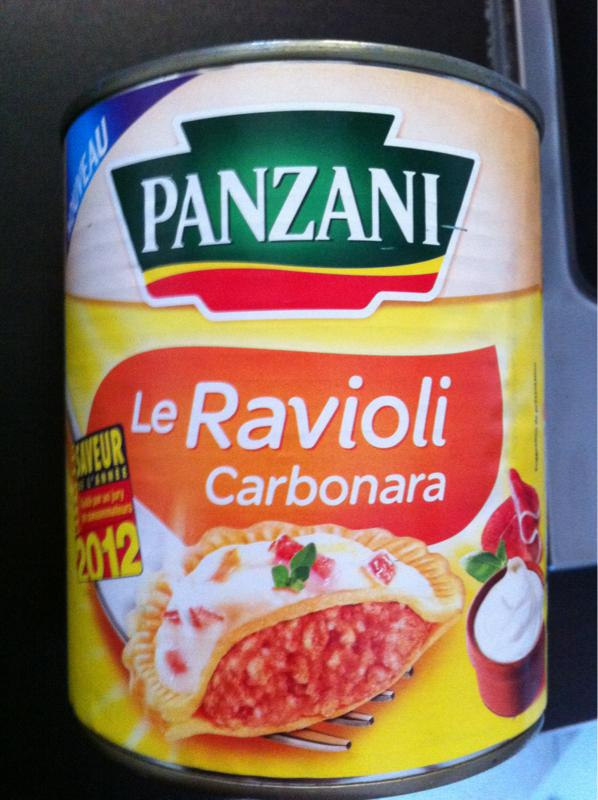metal: (64, 41, 550, 800)
